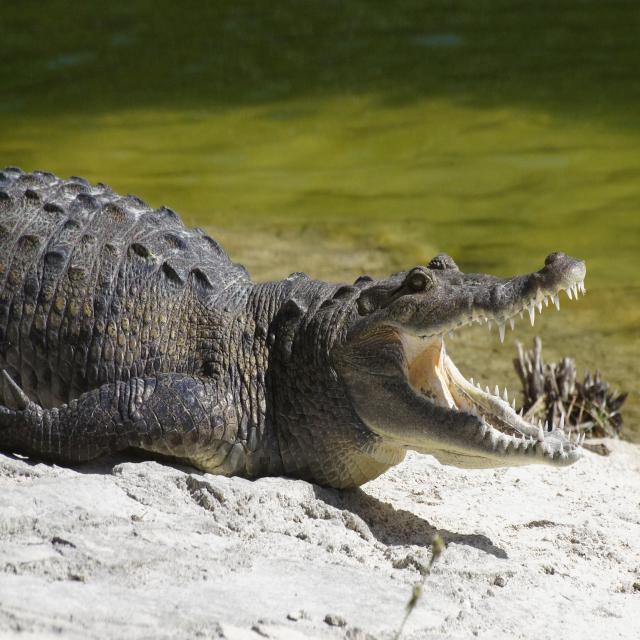crocodile: (0, 151, 607, 511)
